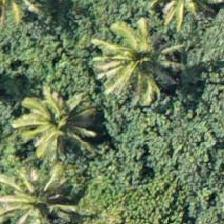coconut_tree: (97, 18, 187, 108), (10, 86, 100, 176), (0, 159, 81, 223)
